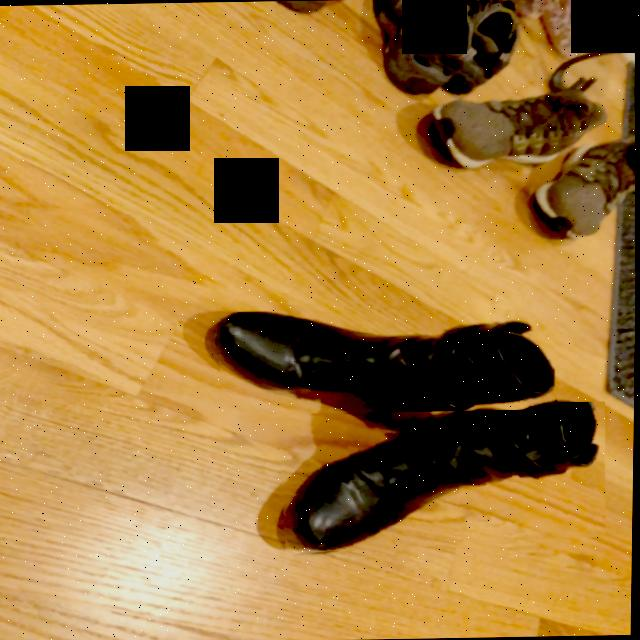shoe: (285, 401, 606, 553), (217, 311, 556, 411)
